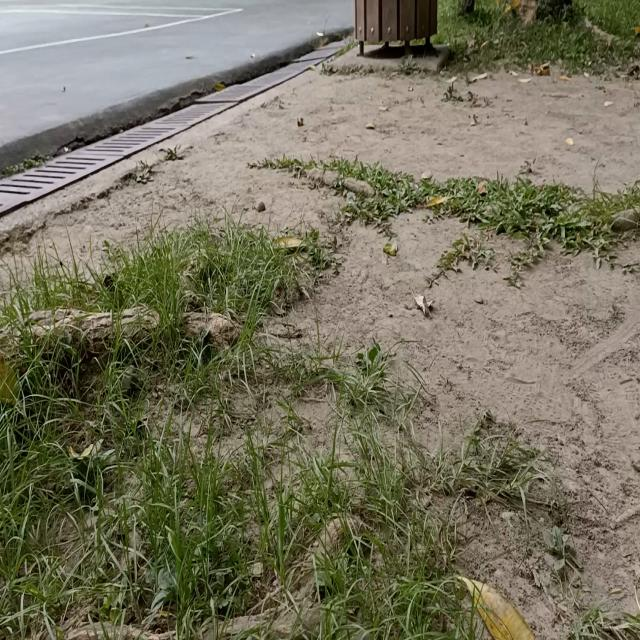grass: (0, 216, 542, 640), (250, 156, 640, 259)
white-sand: (316, 206, 640, 607), (3, 70, 640, 270)
